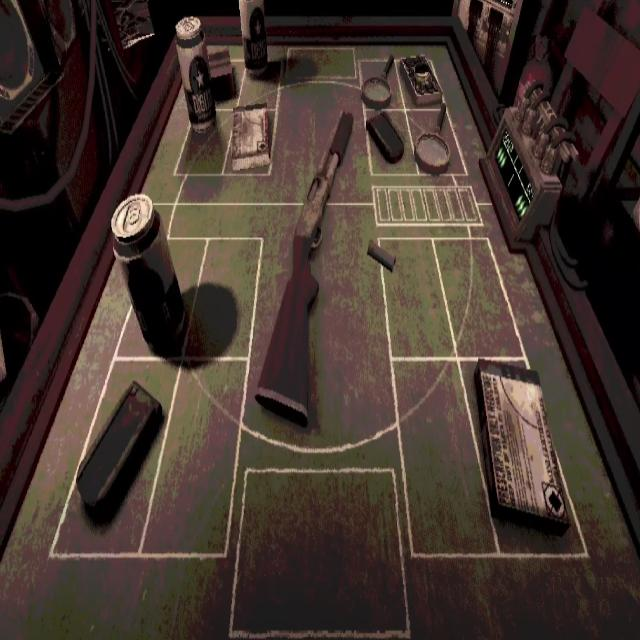can: (111, 194, 189, 358), (176, 18, 216, 133), (239, 0, 281, 76)
changepolarity: (398, 55, 442, 104)
cigar: (205, 38, 238, 97)
expired-medicine: (474, 358, 570, 529), (223, 100, 278, 176)
lens: (413, 104, 454, 177), (361, 55, 393, 107)
phone: (76, 381, 162, 520), (365, 110, 404, 164), (367, 144, 393, 174)
